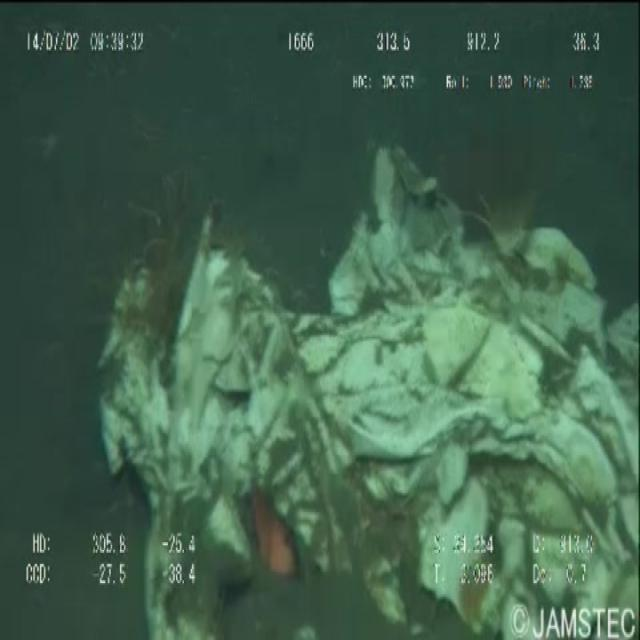Accessories: (91, 123, 640, 638)
